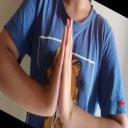hand: (49, 19, 69, 114), (58, 18, 75, 124)
